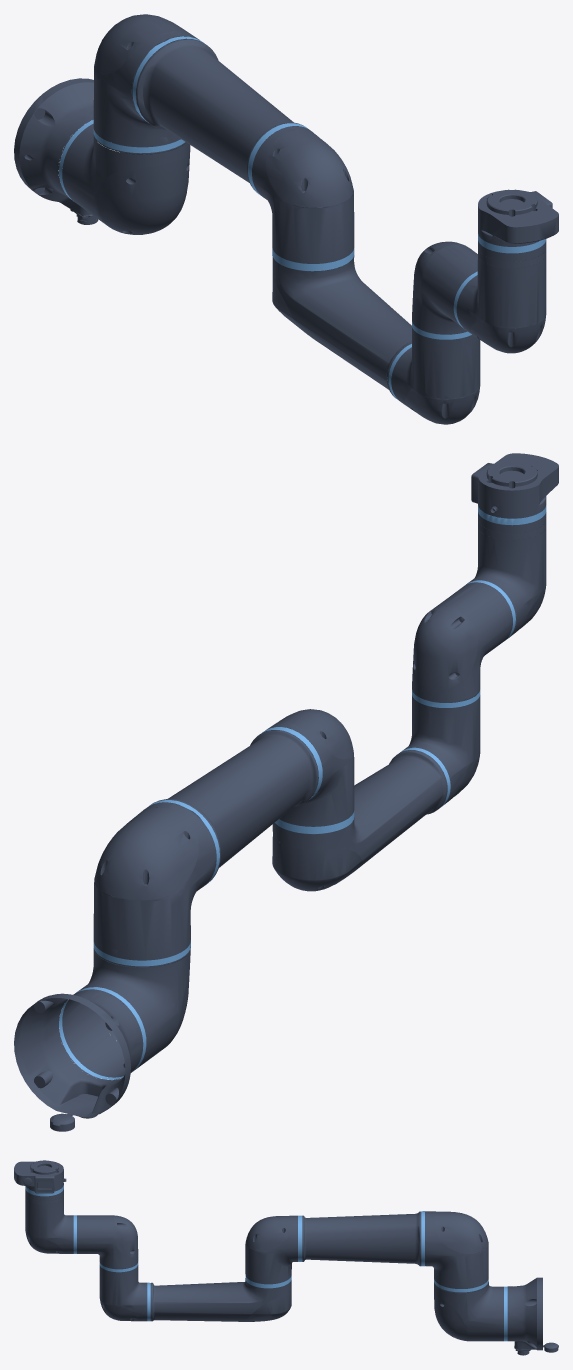
Rendered from 5kg-6axis-model.glb.
The picture shows the model from 3 angles, top to bottom: view 1: azimuth 30°, elevation 25°; view 2: azimuth 150°, elevation 25°; view 3: azimuth 270°, elevation 25°; orthographic projection. The views are drawn at different scales.
Visible parts, largest first — view 1: Link2, Link3, Link1, Link5, Base, Link6, Link4; view 2: Link2, Link3, Base, Link1, Link4, Link6, Link5; view 3: Link2, Link3, Link1, Link4, Base, Link5, Link6.
Part boxes in pixels (<box>): Link2: <box>93,14,354,271</box>; Link3: <box>272,255,480,424</box>; Link1: <box>58,107,190,234</box>; Link5: <box>457,241,546,353</box>; Base: <box>14,78,145,224</box>; Link6: <box>478,189,558,261</box>; Link4: <box>412,241,477,333</box>; Link2: <box>93,709,354,967</box>; Link3: <box>272,689,480,891</box>; Base: <box>14,987,146,1131</box>; Link1: <box>58,940,190,1080</box>; Link4: <box>412,580,516,701</box>; Link6: <box>471,453,558,533</box>; Link5: <box>467,514,546,638</box>; Link2: <box>245,1211,488,1292</box>; Link3: <box>99,1261,291,1321</box>; Link1: <box>434,1279,508,1341</box>; Link4: <box>73,1215,138,1268</box>; Base: <box>504,1277,558,1355</box>; Link5: <box>25,1194,72,1253</box>; Link6: <box>14,1160,66,1200</box>.
Bounding box in the file's own units: 0.16 × 0.4549 × 1.2.
